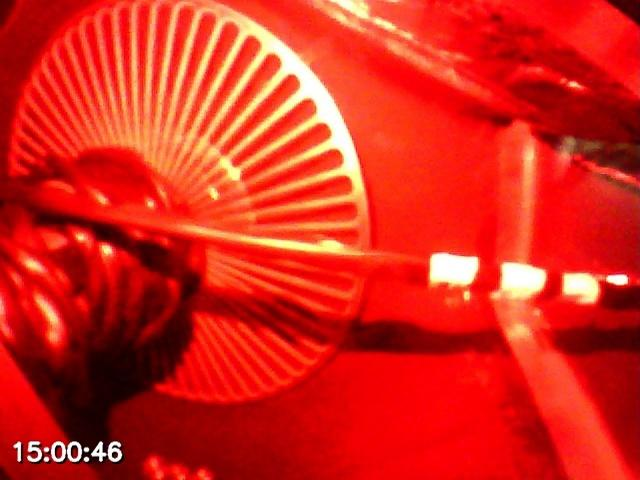white-dots: (428, 253, 599, 305)
